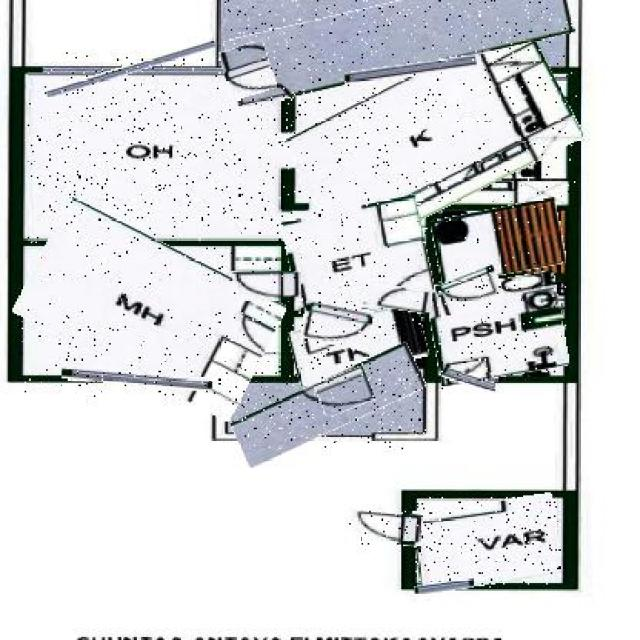door: (302, 302, 372, 348), (221, 43, 274, 99), (437, 269, 501, 311), (349, 510, 423, 544), (317, 369, 372, 414), (232, 271, 300, 300), (365, 285, 432, 312)
window: (45, 52, 217, 85), (61, 371, 212, 389), (345, 62, 477, 80), (443, 372, 499, 390), (414, 582, 474, 592)
zone: (292, 46, 577, 231), (20, 221, 278, 397), (29, 72, 294, 240), (224, 0, 574, 88), (232, 360, 426, 449), (284, 202, 430, 310), (431, 277, 566, 381), (412, 497, 560, 588), (434, 203, 563, 279), (290, 311, 428, 378)
